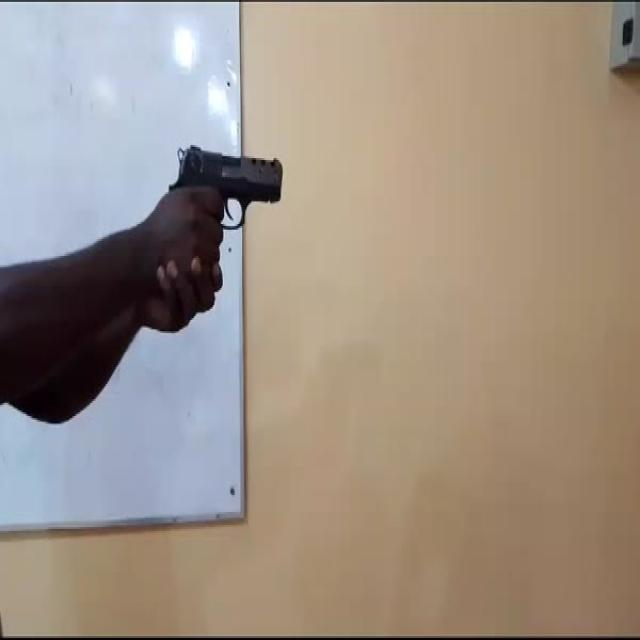weapon: (168, 143, 282, 230)
